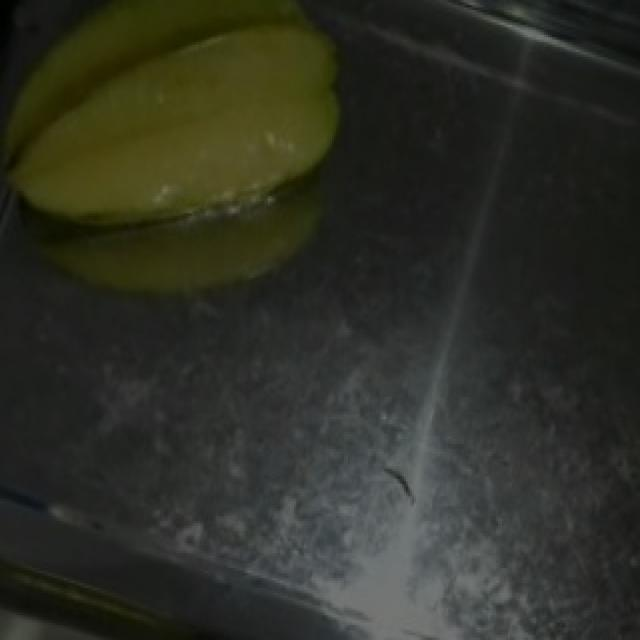fruit: (0, 0, 374, 278)
